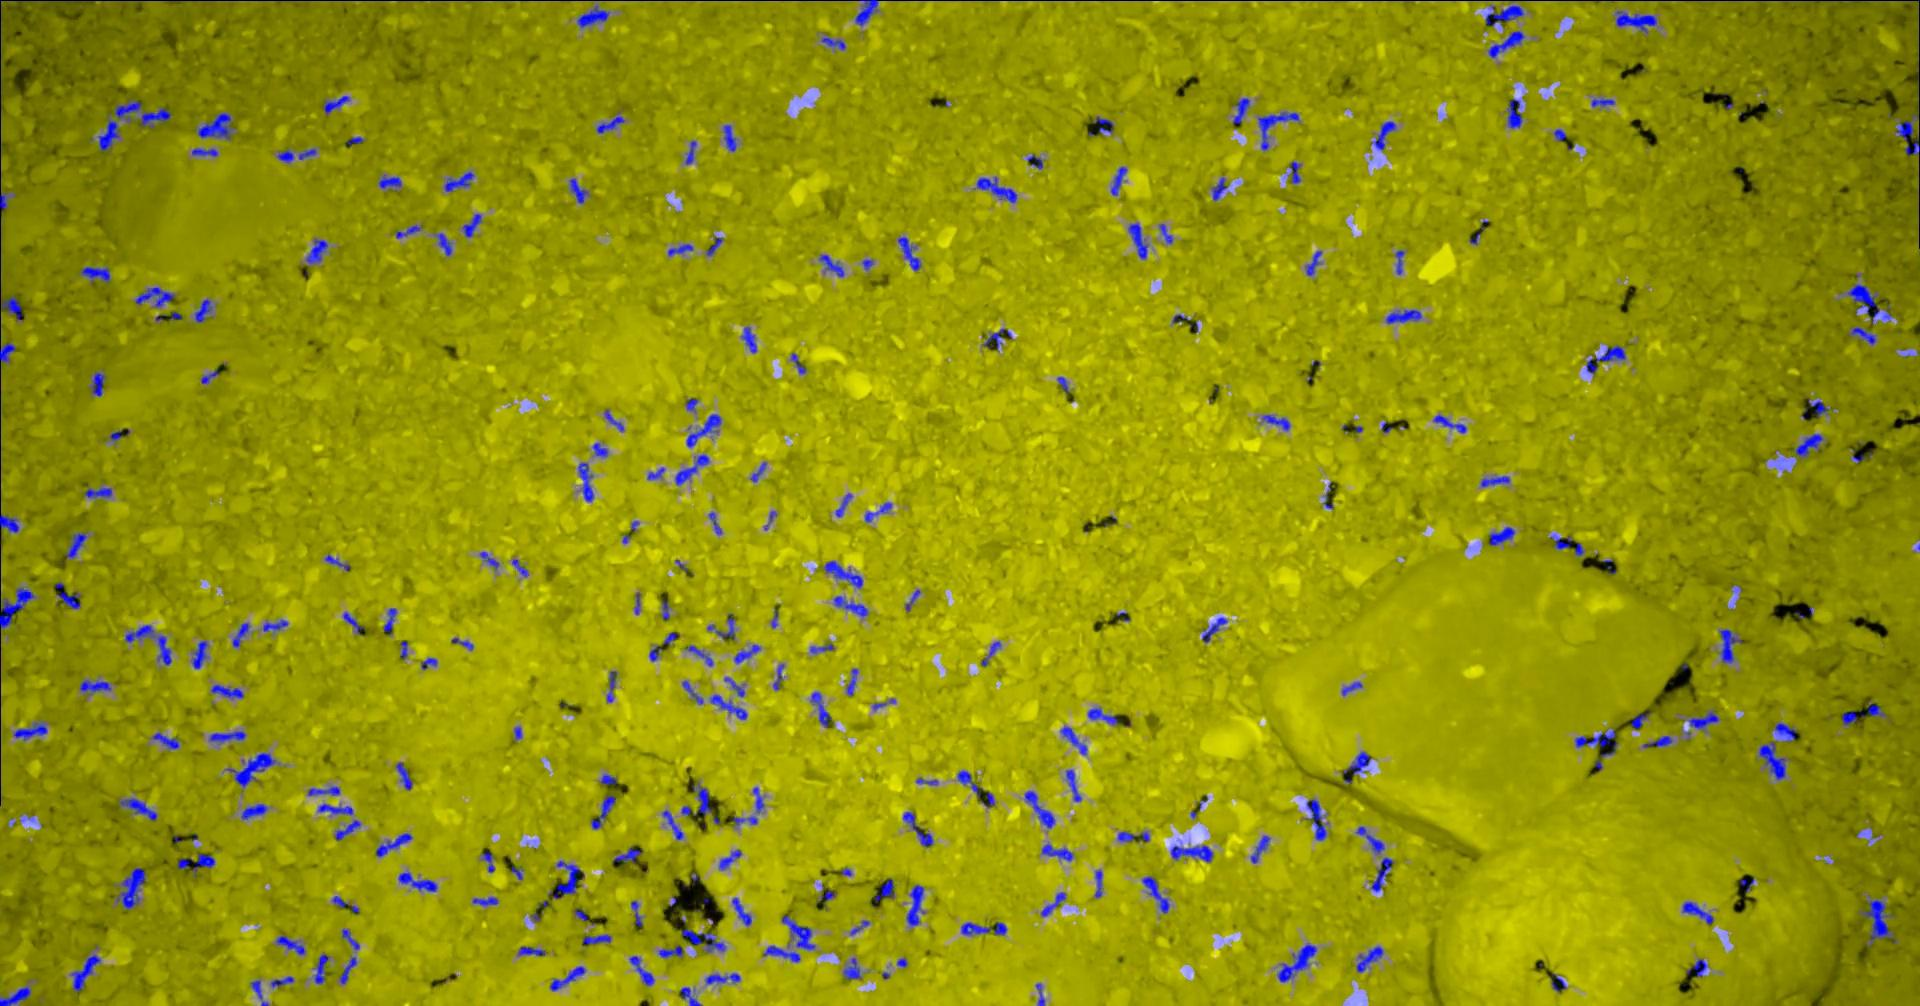ant: (126, 624, 173, 666), (227, 752, 277, 788), (1897, 80, 1920, 155), (116, 99, 173, 128), (1258, 111, 1300, 150), (1862, 899, 1897, 945), (1279, 944, 1318, 981), (1, 587, 36, 627), (1576, 728, 1619, 757), (1849, 285, 1881, 323), (550, 860, 582, 898), (118, 868, 147, 908), (688, 413, 723, 447), (783, 915, 817, 949), (1026, 790, 1057, 827), (904, 810, 935, 846), (72, 954, 102, 991), (1589, 345, 1627, 373), (825, 560, 863, 588), (676, 453, 710, 484), (978, 177, 1018, 202), (1760, 741, 1787, 779), (683, 929, 728, 951), (1490, 30, 1526, 57), (199, 112, 236, 138), (1617, 10, 1658, 33), (1144, 876, 1171, 912), (119, 796, 157, 821), (712, 694, 748, 719), (592, 795, 617, 829), (377, 832, 413, 856), (1308, 798, 1328, 840), (137, 286, 177, 307), (551, 965, 585, 989), (99, 113, 121, 151), (1371, 857, 1396, 890), (899, 236, 922, 271), (1357, 826, 1385, 854), (1487, 5, 1525, 25), (399, 871, 439, 890), (811, 691, 833, 727), (1721, 629, 1743, 662), (1062, 727, 1088, 754), (957, 770, 985, 796), (630, 955, 655, 984), (1, 288, 24, 320), (1684, 901, 1716, 923), (908, 884, 926, 925), (836, 594, 869, 616), (56, 582, 83, 608), (1373, 121, 1397, 150), (1129, 224, 1149, 258), (1172, 845, 1214, 861), (578, 5, 610, 27), (1357, 946, 1384, 972), (709, 614, 737, 638), (1343, 751, 1373, 774), (15, 721, 50, 741), (1797, 433, 1823, 457), (1203, 617, 1229, 641), (984, 328, 1013, 349), (579, 462, 596, 500), (693, 782, 712, 815), (1690, 710, 1721, 730), (1434, 414, 1468, 432), (764, 945, 801, 962), (444, 171, 476, 191), (664, 810, 684, 840), (1043, 892, 1067, 916), (856, 0, 879, 25), (963, 921, 1008, 934), (277, 935, 307, 954), (1, 986, 32, 1005), (733, 897, 753, 925), (307, 238, 329, 263), (1067, 768, 1083, 801), (1252, 835, 1271, 862), (1043, 843, 1074, 860), (820, 254, 844, 276), (1173, 312, 1199, 333), (67, 532, 88, 558), (688, 645, 714, 666), (337, 819, 362, 840), (1387, 309, 1423, 323), (866, 502, 893, 521), (1490, 526, 1516, 545), (735, 644, 762, 663), (212, 683, 245, 699), (1090, 708, 1120, 724), (598, 116, 626, 133), (152, 732, 180, 749), (194, 854, 216, 876), (982, 641, 1002, 666), (570, 178, 589, 203), (251, 979, 270, 1005), (83, 265, 112, 282), (324, 95, 350, 113), (1850, 326, 1877, 344), (1509, 98, 1524, 128), (344, 611, 364, 634), (683, 680, 703, 702), (720, 848, 743, 869), (876, 878, 897, 901), (315, 953, 330, 983), (1234, 97, 1251, 124), (1263, 414, 1291, 431), (463, 213, 483, 238), (1112, 166, 1128, 196), (397, 762, 414, 789), (243, 803, 269, 819), (342, 956, 358, 983), (1, 512, 22, 533), (1777, 721, 1798, 742), (196, 298, 213, 323), (837, 492, 855, 516), (234, 622, 251, 647), (194, 640, 210, 668), (615, 847, 643, 862), (211, 730, 248, 742), (1307, 250, 1323, 276), (606, 409, 625, 431), (436, 232, 453, 255), (1810, 399, 1832, 417), (319, 803, 354, 814), (844, 956, 862, 979), (681, 987, 703, 1005), (326, 554, 350, 570), (743, 326, 758, 352), (81, 680, 112, 692), (1688, 958, 1709, 976), (1213, 177, 1229, 199), (1550, 533, 1575, 549), (726, 677, 745, 696), (1095, 116, 1115, 133), (750, 461, 768, 481), (343, 929, 361, 949), (1632, 711, 1653, 728), (707, 973, 742, 983), (725, 124, 738, 151), (397, 224, 422, 238), (608, 669, 618, 702), (1482, 475, 1511, 486), (792, 352, 808, 373), (669, 243, 695, 255), (93, 371, 105, 396), (385, 607, 397, 633), (264, 619, 290, 631), (1119, 831, 1150, 841), (380, 174, 403, 188), (1843, 711, 1865, 725), (1644, 735, 1672, 747), (481, 551, 500, 568), (1, 342, 17, 362), (823, 37, 847, 50), (483, 851, 497, 873), (309, 786, 342, 795), (710, 511, 723, 533), (632, 901, 644, 926), (584, 934, 612, 944), (687, 140, 698, 164), (660, 945, 684, 956), (453, 636, 475, 649), (513, 559, 530, 575), (709, 238, 724, 255), (86, 486, 113, 497), (848, 668, 858, 695), (754, 786, 764, 813), (1161, 224, 1175, 243), (1343, 681, 1363, 695), (1553, 973, 1567, 992), (272, 976, 295, 987), (775, 663, 785, 688), (734, 815, 759, 826), (202, 370, 220, 384), (1869, 702, 1887, 716), (1290, 161, 1302, 183), (811, 643, 836, 653), (519, 946, 546, 955), (110, 428, 131, 439), (278, 149, 295, 163), (193, 147, 218, 156), (1397, 249, 1406, 274), (422, 657, 439, 669), (474, 895, 499, 904), (1029, 154, 1044, 168), (594, 442, 610, 456), (982, 791, 996, 807), (819, 890, 836, 903), (334, 895, 350, 908), (1096, 870, 1103, 897), (650, 645, 663, 661), (1037, 983, 1046, 1005), (649, 467, 665, 479), (1592, 98, 1617, 105), (300, 149, 317, 159), (512, 865, 524, 879), (1, 191, 10, 210), (602, 774, 618, 784), (178, 857, 194, 868), (687, 398, 698, 412), (663, 600, 670, 619), (1556, 130, 1568, 140), (14, 0, 97, 1), (1, 4, 3, 58), (164, 0, 215, 1)
